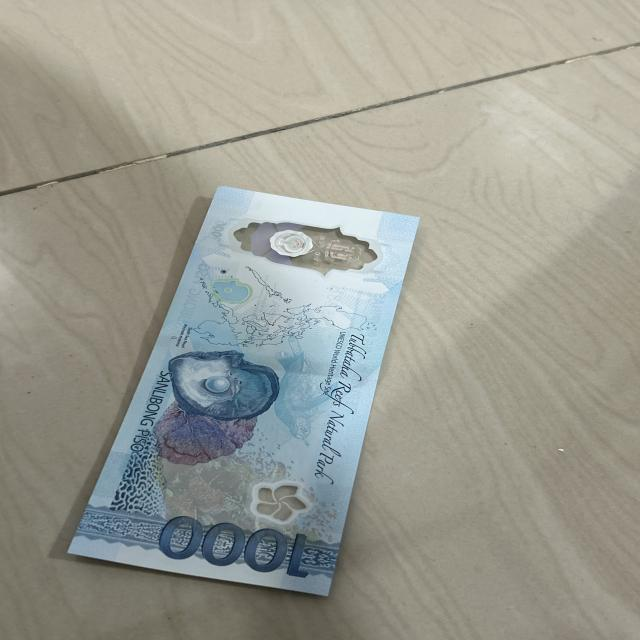clear_window: (228, 211, 381, 275)
sampaguita: (245, 484, 310, 524)
value: (157, 520, 317, 574)
